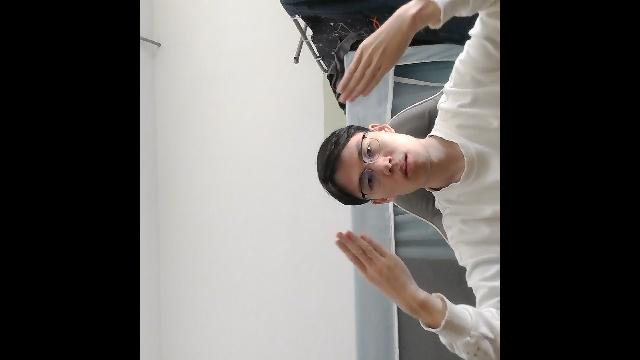four: (335, 2, 420, 109), (332, 224, 416, 305)
